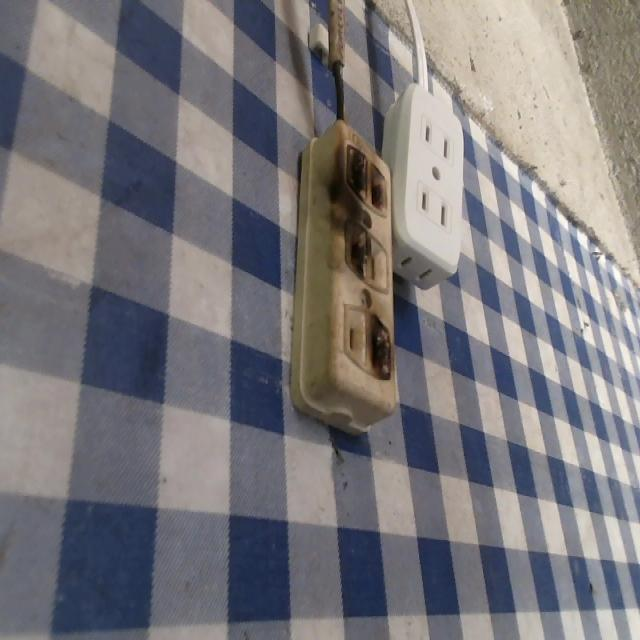-: (337, 138, 394, 214), (362, 300, 400, 385), (338, 201, 371, 291)
